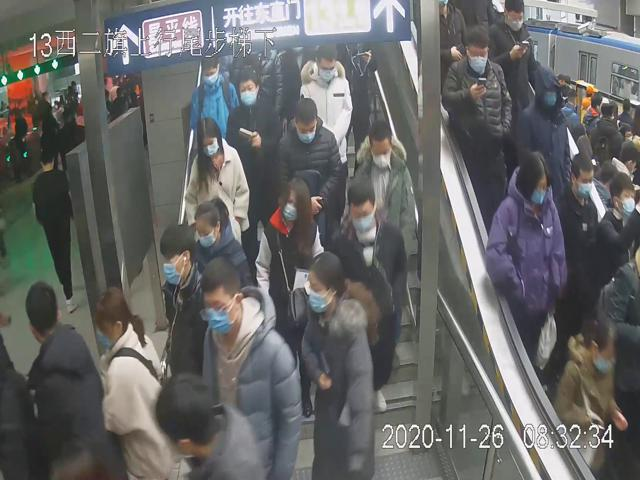person: (198, 256, 301, 480), (485, 148, 569, 376), (331, 177, 408, 411), (299, 252, 377, 480), (253, 176, 323, 419), (440, 23, 511, 218), (273, 96, 342, 241), (344, 116, 413, 251), (181, 115, 251, 246), (297, 43, 353, 206), (225, 66, 284, 213), (158, 220, 206, 380), (190, 196, 251, 300), (187, 54, 239, 144)
